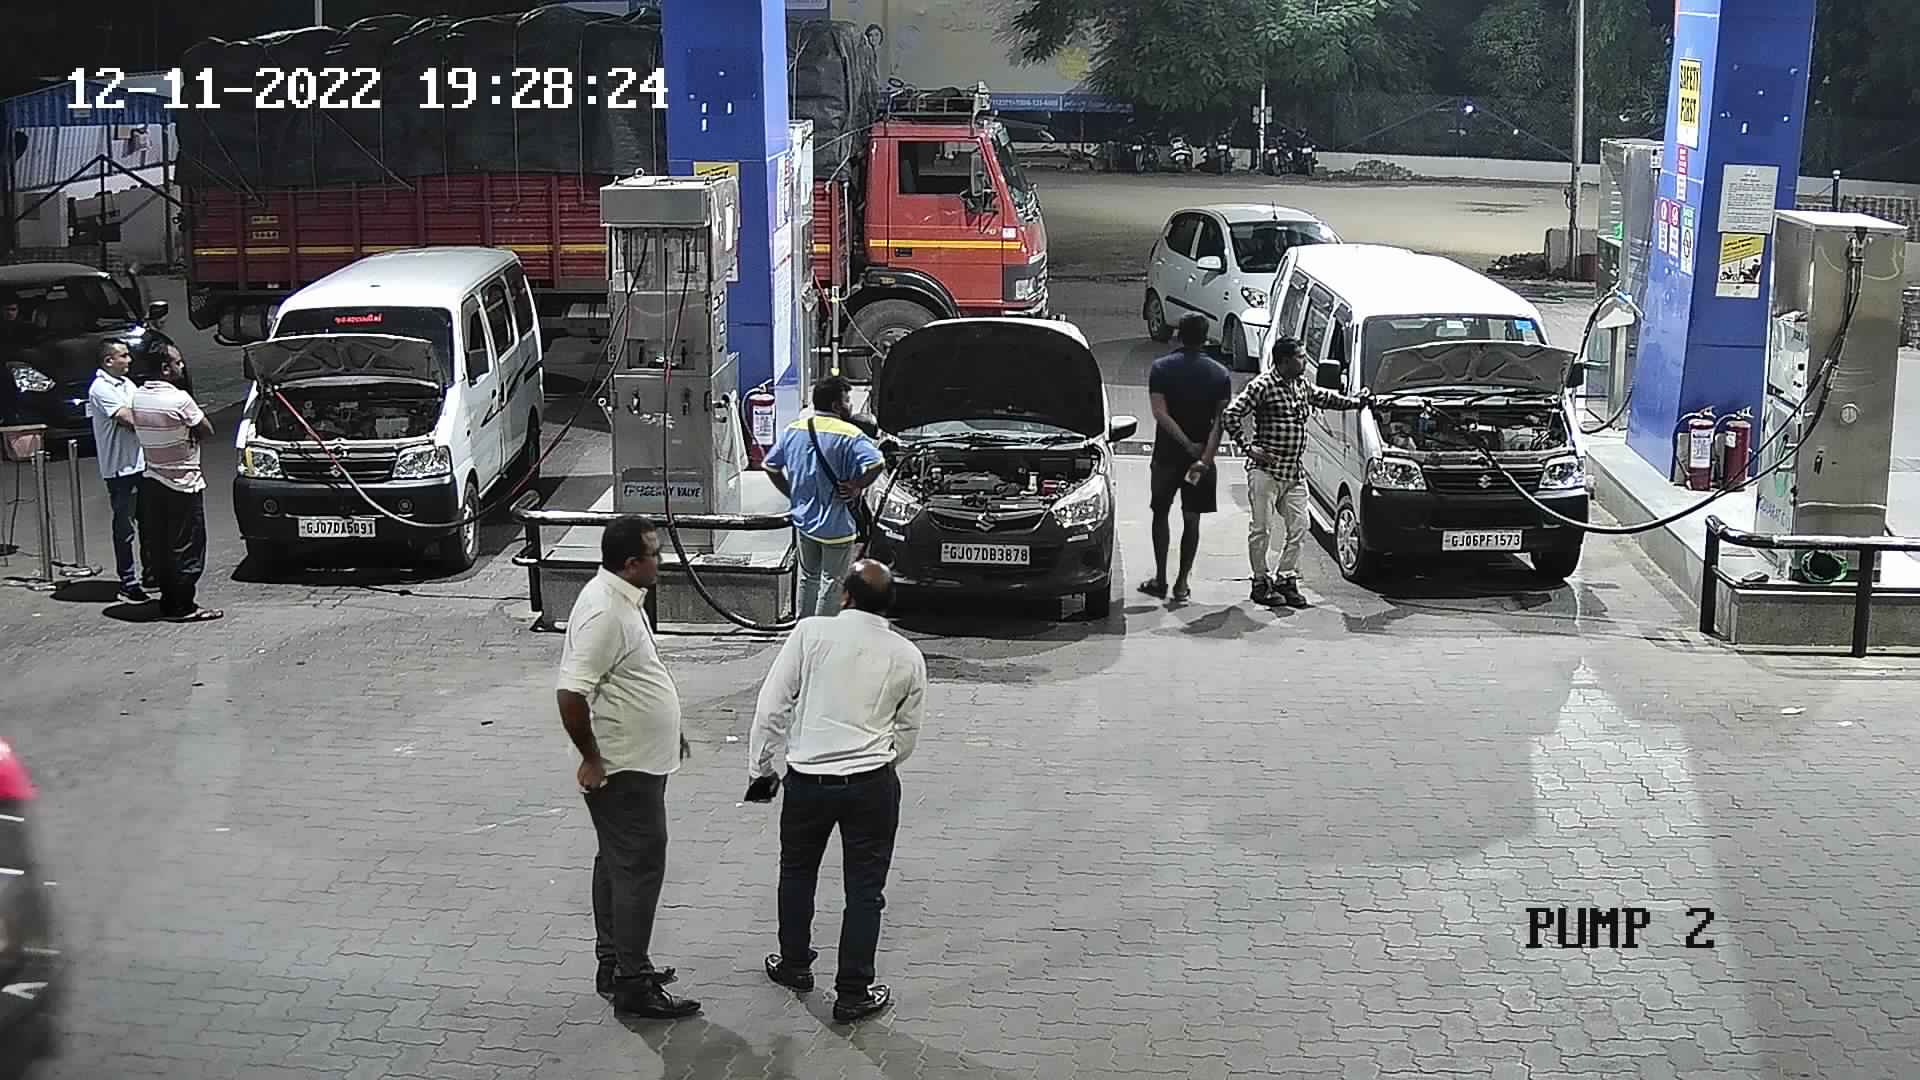Bike: (1120, 121, 1166, 173), (1160, 113, 1200, 173), (1199, 121, 1240, 177), (1254, 127, 1292, 175), (1287, 123, 1321, 177)
Car: (1245, 236, 1609, 582), (212, 235, 562, 579), (816, 290, 1153, 634), (0, 517, 103, 1080), (1130, 185, 1365, 380), (0, 237, 193, 456)
HMV: (785, 1, 1071, 392)
Others: (760, 373, 887, 624)
